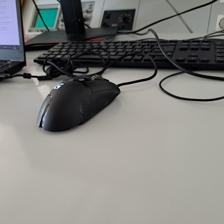mouse: (35, 73, 121, 133)
